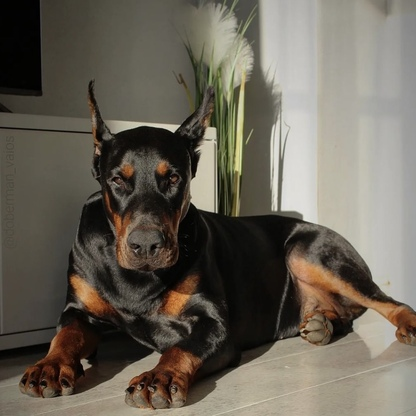doberman: (20, 81, 416, 414)
